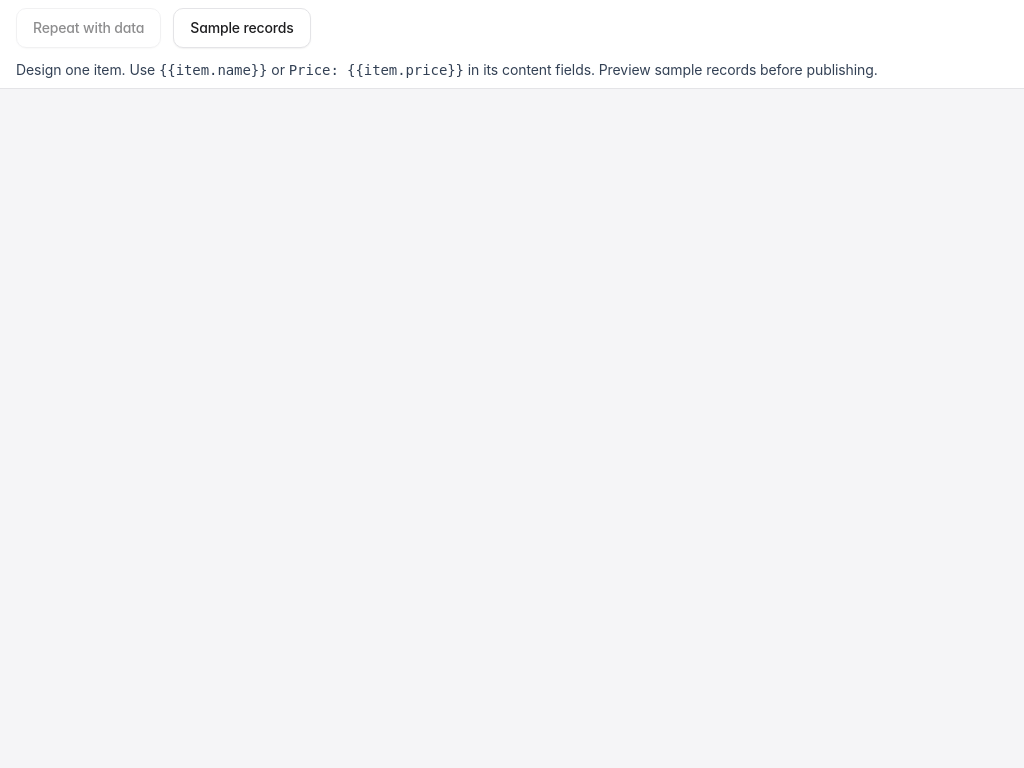
Test case: visual data authoring › previews five bound cards locally and never passes samples into document replacement
What coordinates should you click on to do the following:
click the button "Sample records"
I would click on:
 (242, 28)
Its box is [173,8,311,48].
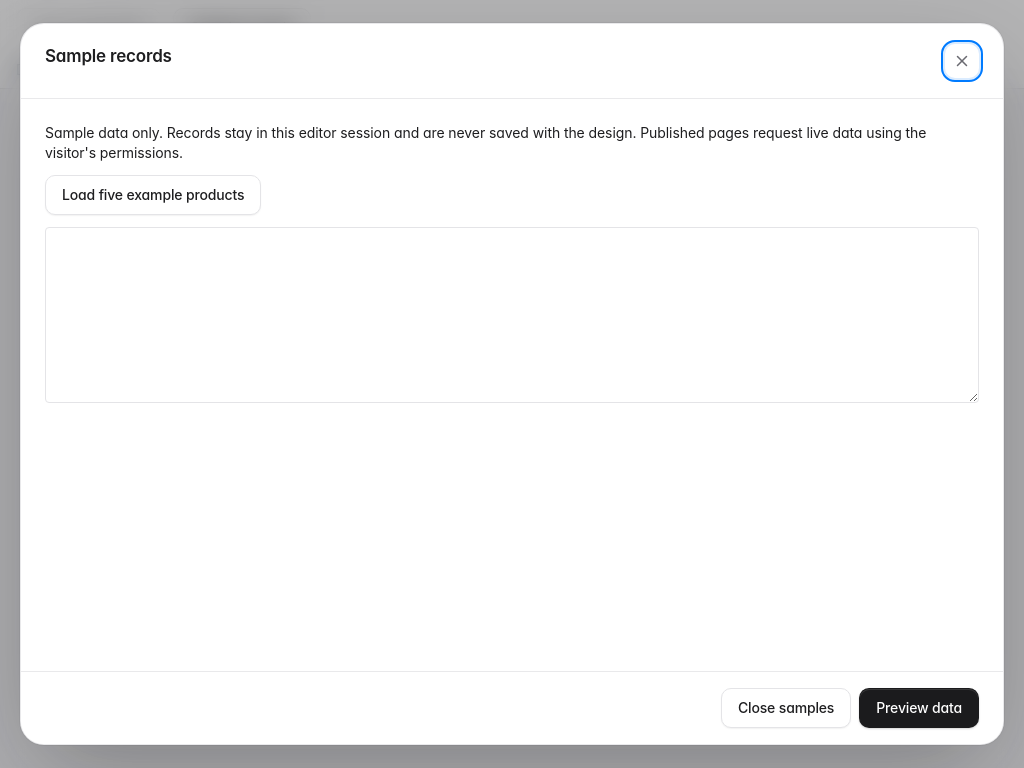
What coordinates should you click on to do the following:
click the button "Load five example products"
I would click on:
 (153, 195)
Its box is [45,175,261,215].
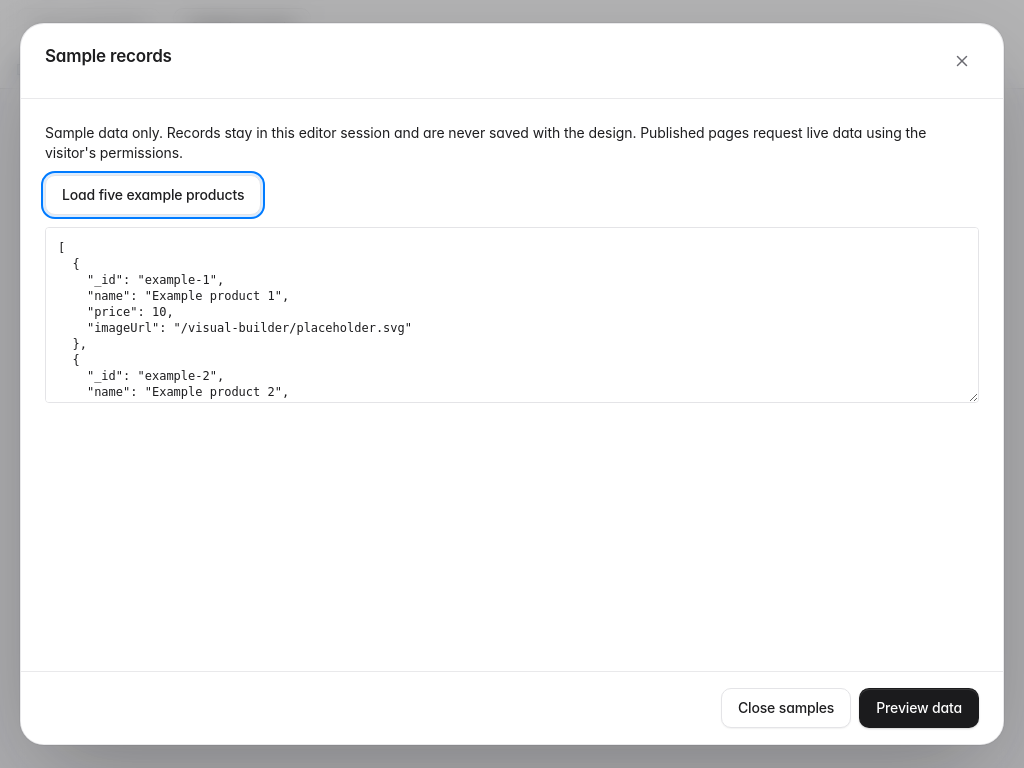
What coordinates should you click on to do the following:
click the button "Preview data"
I would click on:
 (919, 708)
Its box is [859,688,979,728].
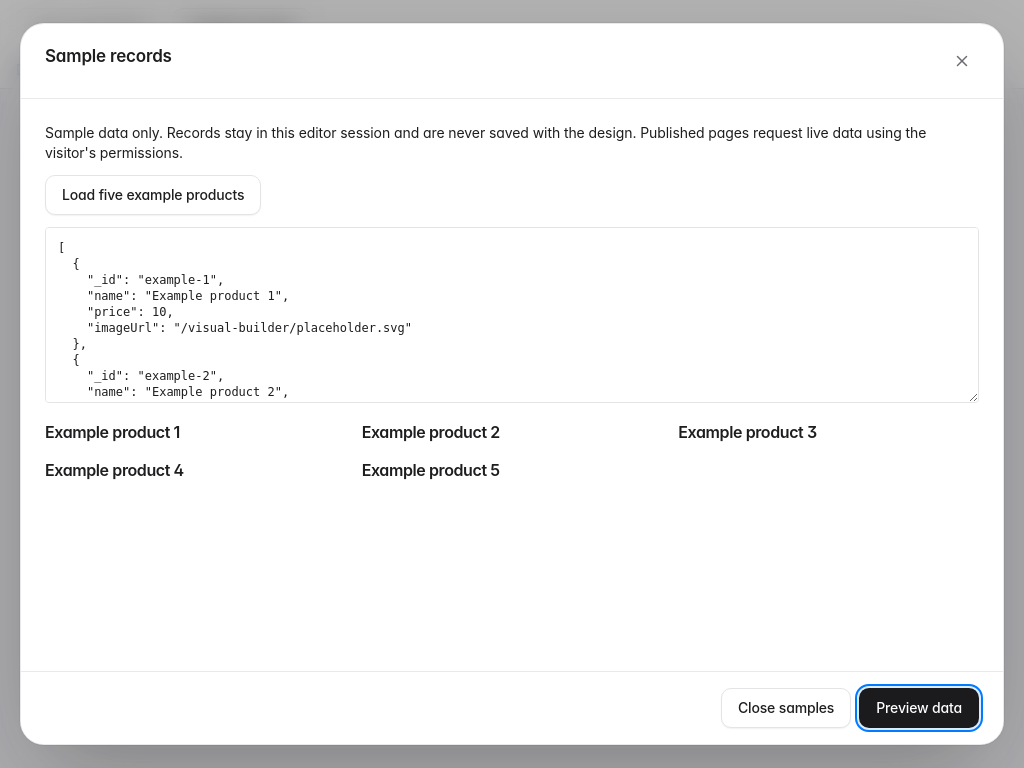
Check: the number of headings "Example product 1" is 5, box [45,422,180,442]; [362,422,500,442]; [678,422,817,442]; [45,460,184,480]; [362,460,500,480]
